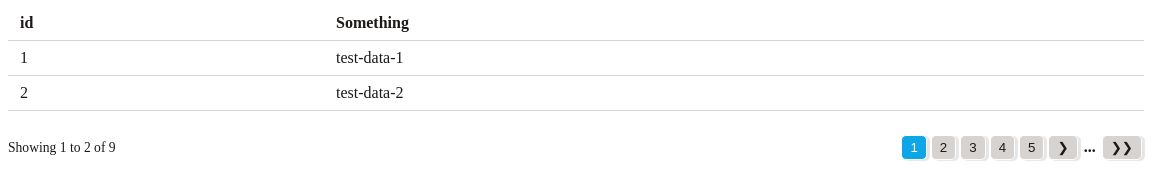
it: SpenditTable › data rendering › default render values › should render the rows after pagination
Click the button "2": (944, 148) x1=931 y1=135 x2=956 y2=160
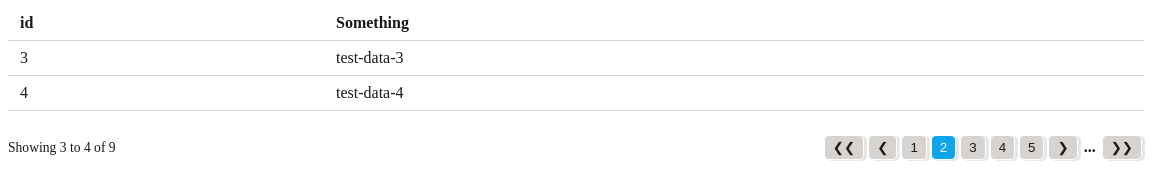
Expected: the button "1" is shown, x1=901 y1=135 x2=927 y2=160
Now the text "test-data-3" is shown, box x1=324 y1=41 x2=1144 y2=76
Now the text "test-data-4" is shown, box x1=324 y1=76 x2=1144 y2=111
